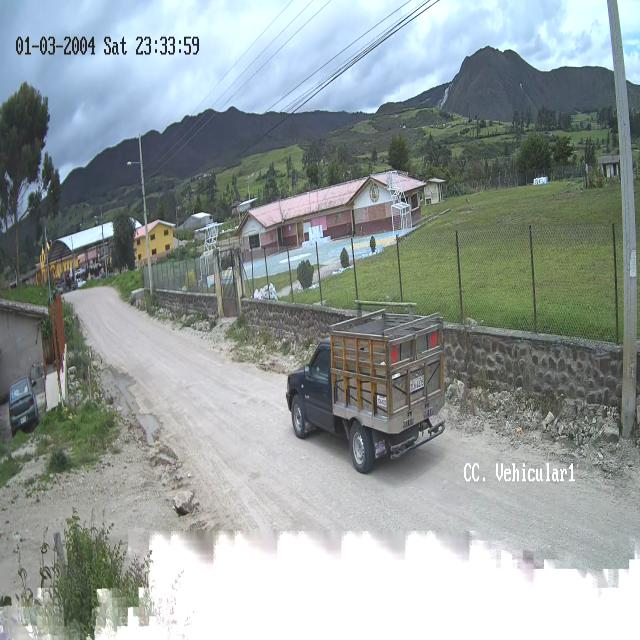CMT: (289, 321, 446, 473)
